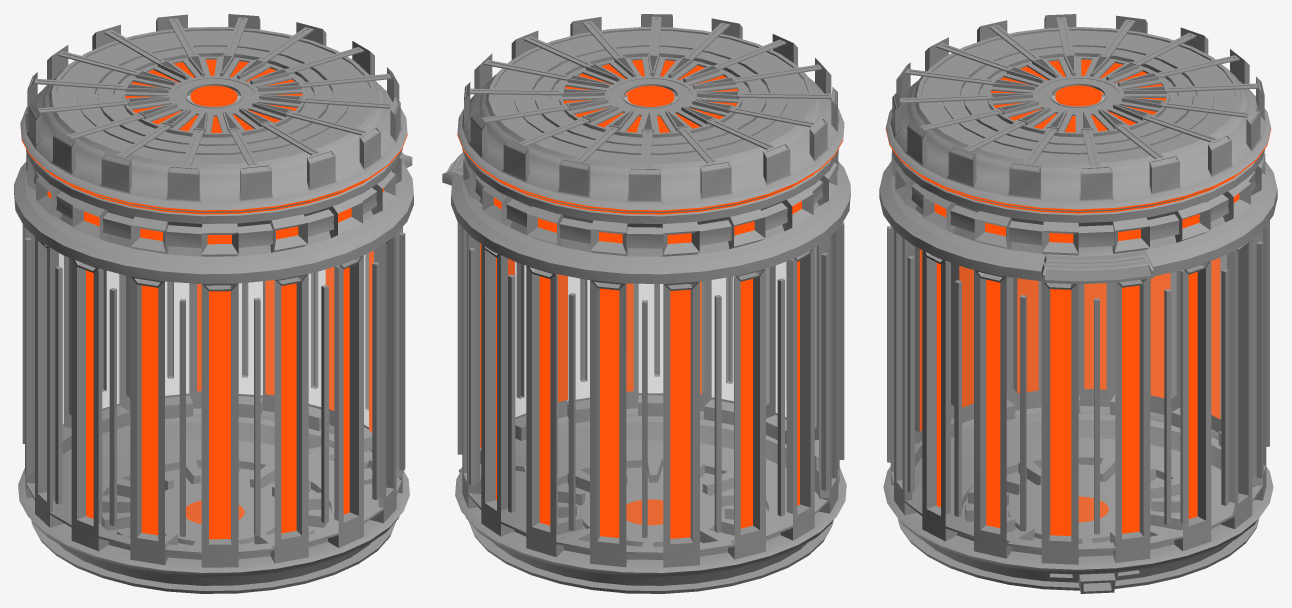
File: sci-fi_fuel_cell_canister.glb
3 renders of one model, left to right at view 1: azimuth 30°, elevation 25°; view 2: azimuth 150°, elevation 25°; view 3: azimuth 270°, elevation 25°, orthographic.
Visible parts, largest first — view 1: Cylinder.001_0; view 2: Cylinder.001_0; view 3: Cylinder.001_0.
Boxes of the visible parts, bbox=[...] form: Cylinder.001_0: bbox=[14, 14, 413, 593]; Cylinder.001_0: bbox=[442, 14, 850, 593]; Cylinder.001_0: bbox=[879, 14, 1277, 593].
Size of the model in its own units: 0.6556 by 0.7487 by 0.6373.
